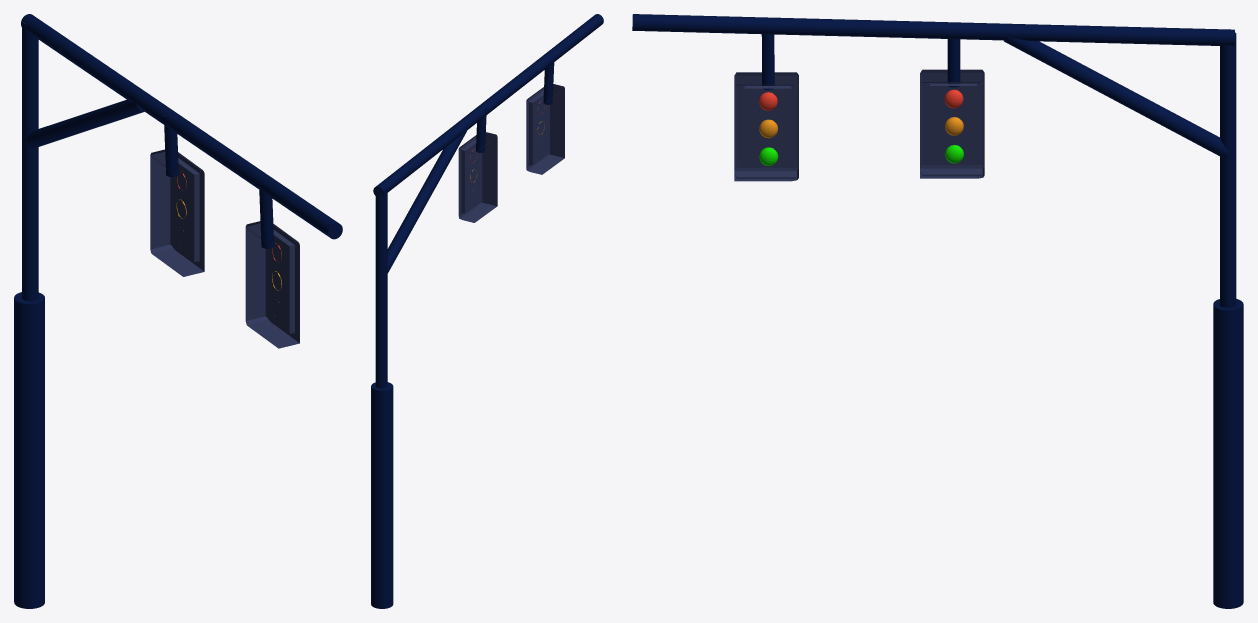
Rendered from traffic light week 3.fbx.
3 views of the same model, side by side, from view 1: azimuth 30°, elevation 25°; view 2: azimuth 150°, elevation 25°; view 3: azimuth 270°, elevation 25° (orthographic). The views are drawn at different scales.
Visible parts, largest first — view 1: Sphere; view 2: Sphere; view 3: Sphere.
Part boxes in pixels (left/top/right/bottom): Sphere: left=14, top=14, right=342, bottom=608; Sphere: left=371, top=14, right=603, bottom=608; Sphere: left=632, top=14, right=1243, bottom=608.
Bounding box in the file's own units: 173 × 3000 × 2822.
